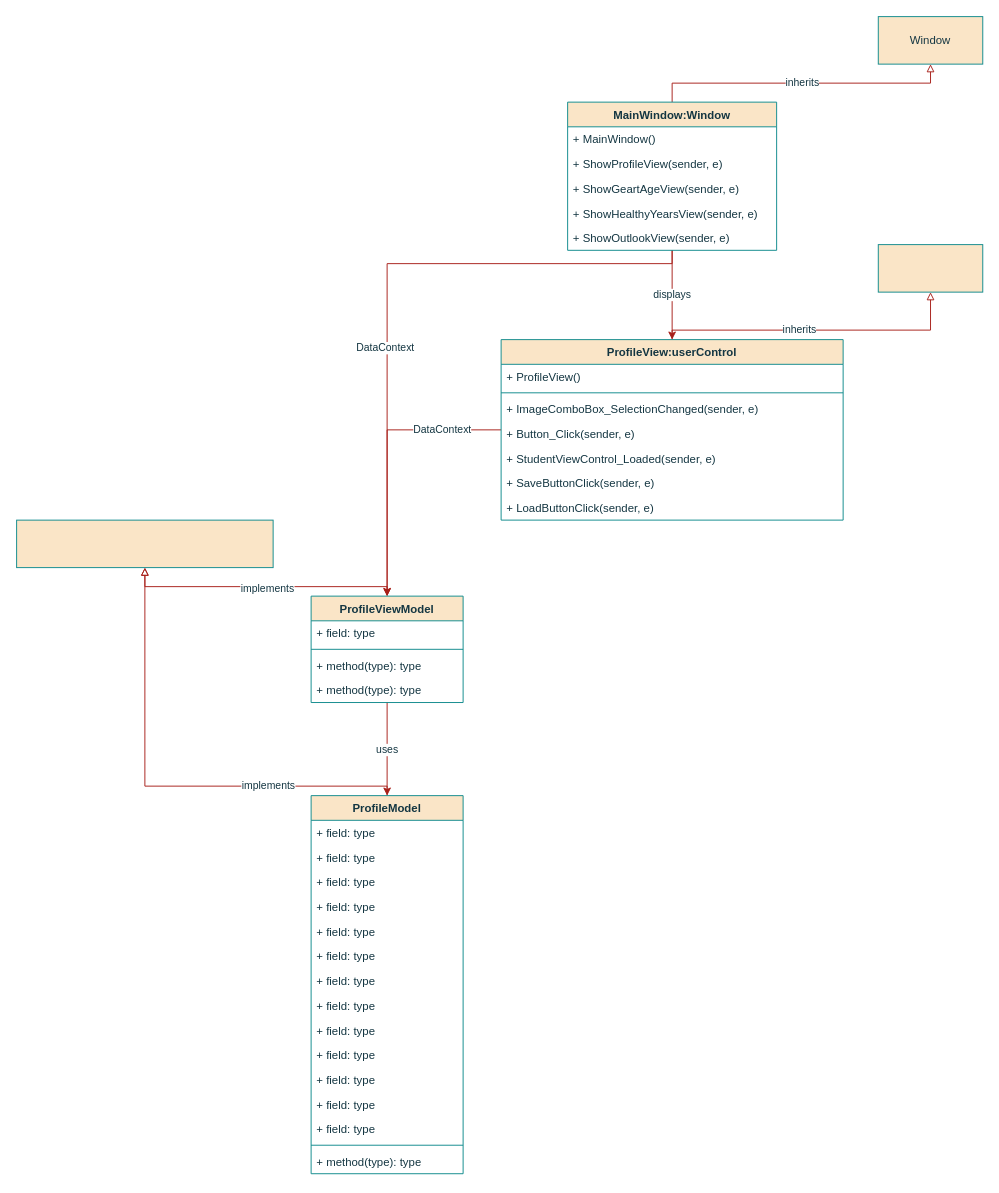
Some shapes in this 999 by 1193 pixel diagram are drawn without their labels. Here are the shapes that lost their labels. From the top down, the centre of each, then its label:
(x=930, y=268): UserControl
(x=144, y=543): «interface» INotifyPropertyChanged +OnPropertyChanged(propertyName:string)
